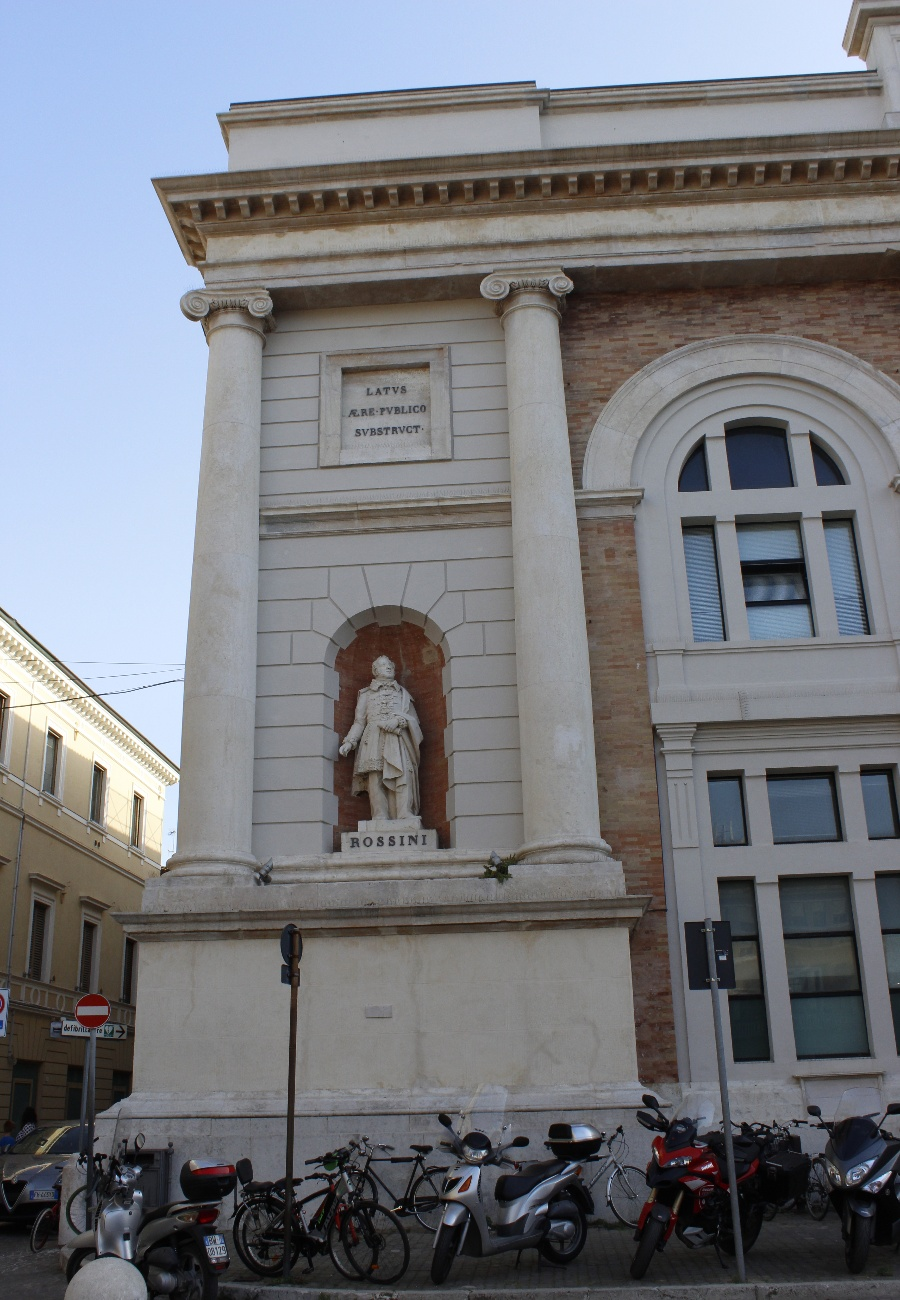Gioachino Rossini: (322, 607, 460, 867)
Palazzo delle Poste: (123, 1, 900, 1185)
